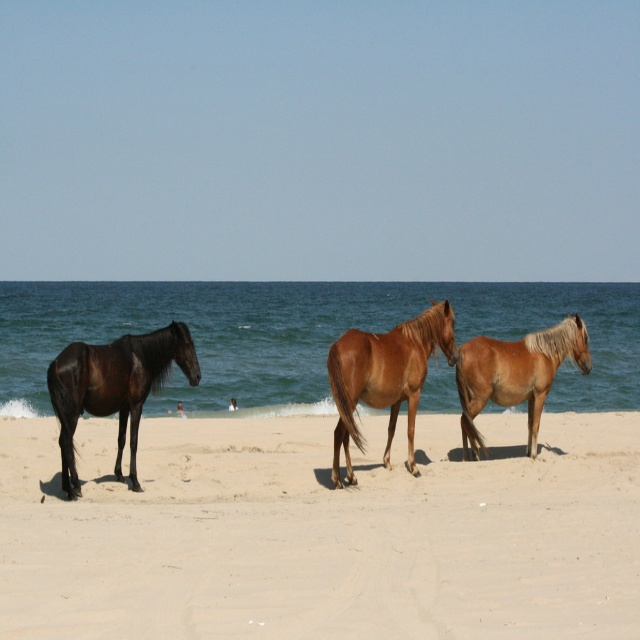Horse: (44, 319, 203, 501), (324, 295, 459, 483), (447, 314, 593, 456)
